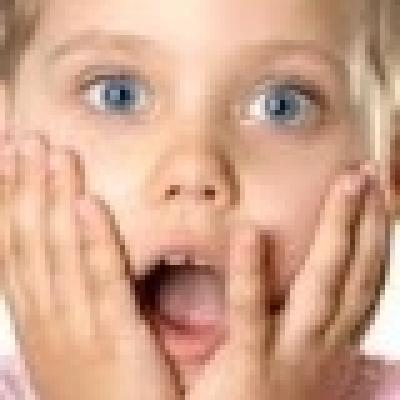surprise: (29, 6, 371, 373)
